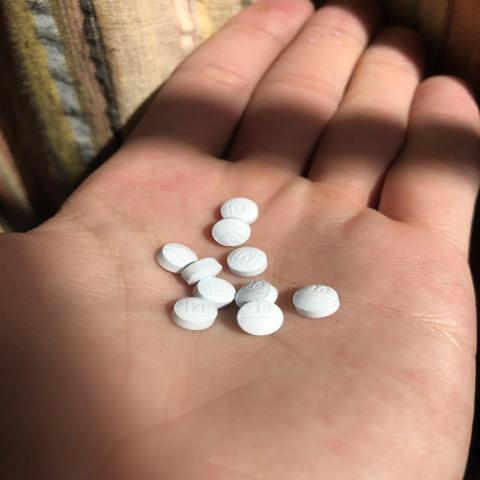Pill: (289, 277, 352, 331), (238, 298, 290, 350), (167, 286, 216, 336), (224, 242, 288, 276), (152, 234, 199, 277), (208, 215, 263, 249)
